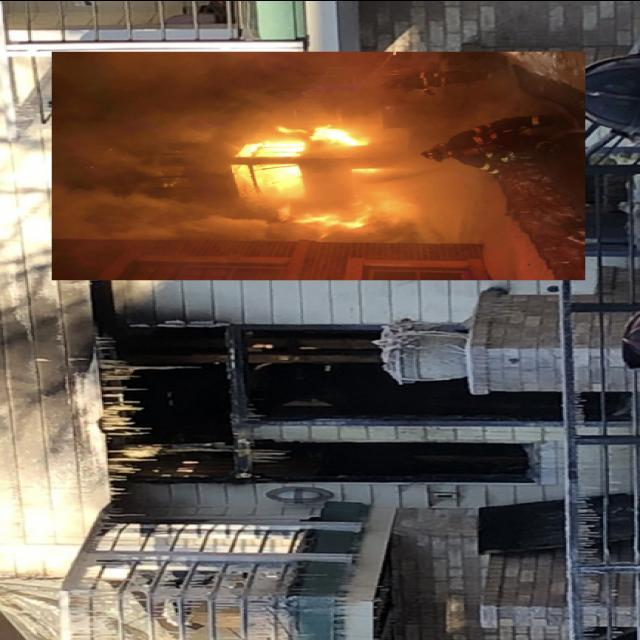Fire: (202, 120, 406, 227)
